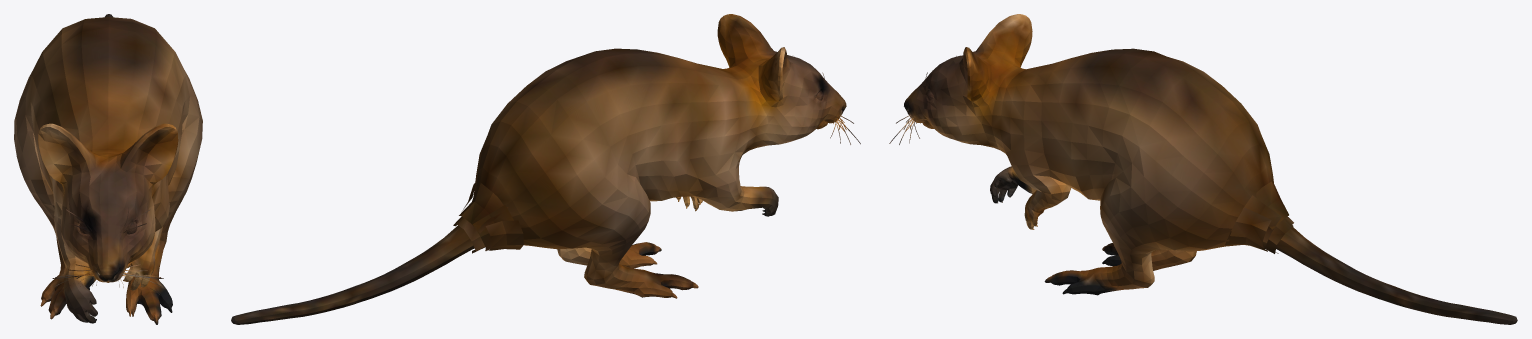
The model's file is quokka.mesh.glb.
The picture shows the model from 3 angles, left to right: view 1: azimuth 30°, elevation 25°; view 2: azimuth 150°, elevation 25°; view 3: azimuth 270°, elevation 25°; orthographic projection. The views are drawn at different scales.
Parts seen in each view (by area): view 1: root; view 2: root; view 3: root.
Part boxes in pixels (x1=…): root: x1=14, y1=14, x2=202, y2=324; root: x1=231, y1=14, x2=860, y2=324; root: x1=889, y1=14, x2=1517, y2=324.
Size of the model in its own units: 0.5103 by 0.3302 by 0.8174.
1 material, 1 textured.
